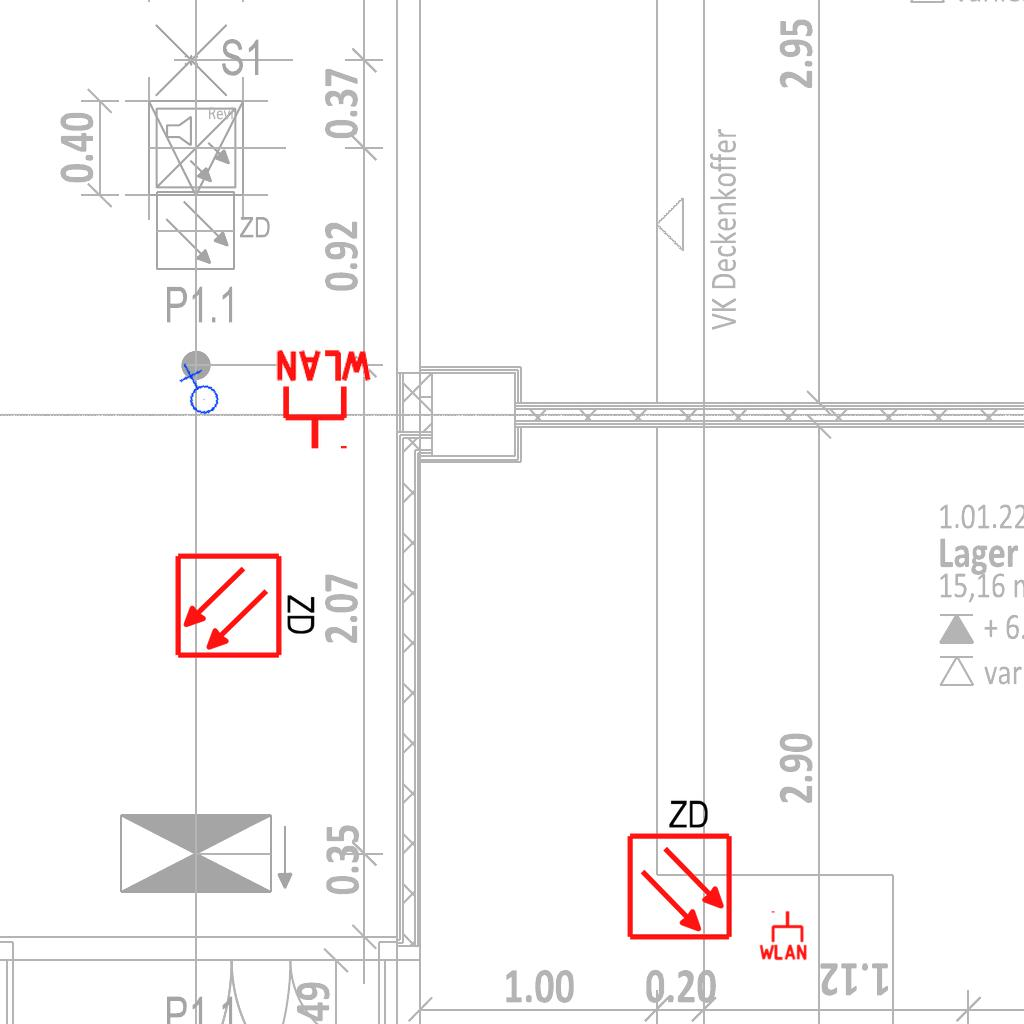Elektroanschluss_allgemein_230V_Geraeteanschlussdose_230V: (168, 361, 227, 422)
WLAN: (272, 348, 376, 453), (757, 909, 809, 961)
ZD_Melder_in_Zwischendecke_mit_Revisionsoeffnung_mind_40_x_40_cm: (621, 793, 735, 942), (173, 547, 322, 661)
